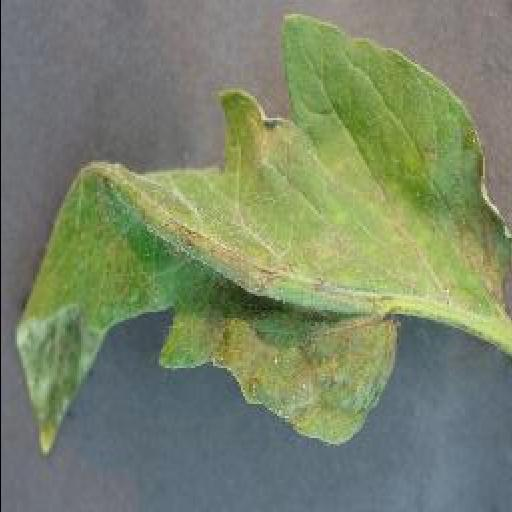disease_tomato: (14, 10, 512, 452)
